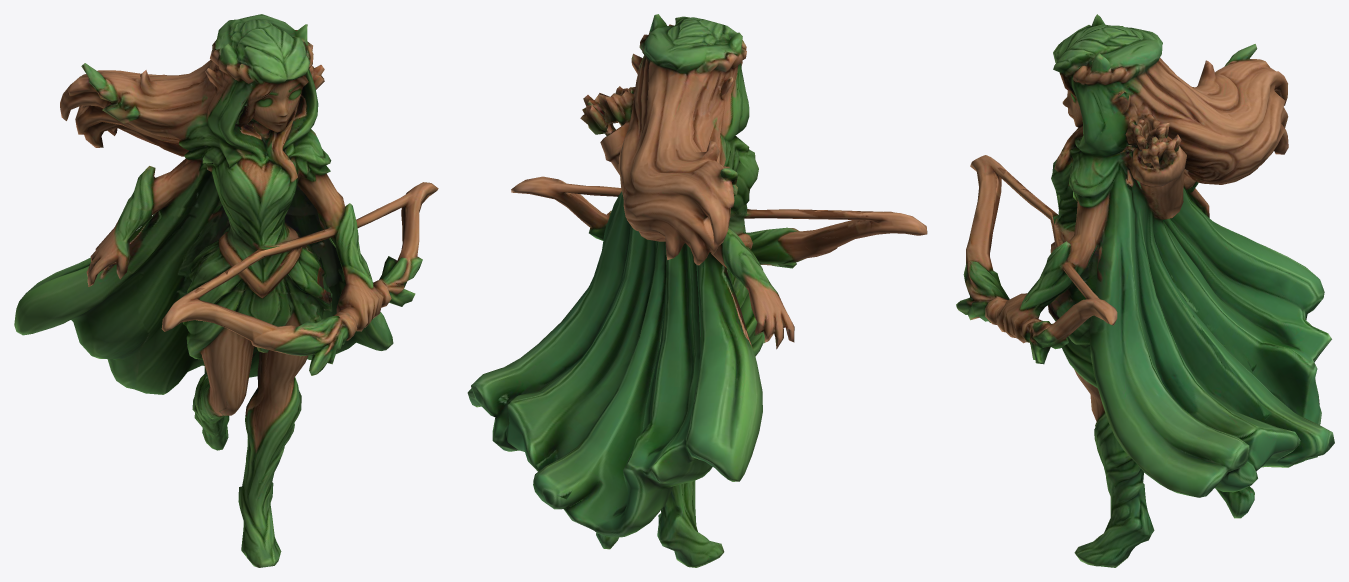
Rendered from Generated_Image_Novem_1120075104_texture.fbx.
3 views of the same model, side by side, from view 1: azimuth 30°, elevation 25°; view 2: azimuth 150°, elevation 25°; view 3: azimuth 270°, elevation 25° (orthographic).
Visible parts, largest first — view 1: Mesh1.0; view 2: Mesh1.0; view 3: Mesh1.0.
Part boxes in pixels (x1,y1,x2,y2): Mesh1.0: (14,14,438,567); Mesh1.0: (467,14,927,567); Mesh1.0: (956,14,1334,567).
Size of the model in its own units: 129 by 191 by 123.
Materials: 1 (1 with a texture image).
